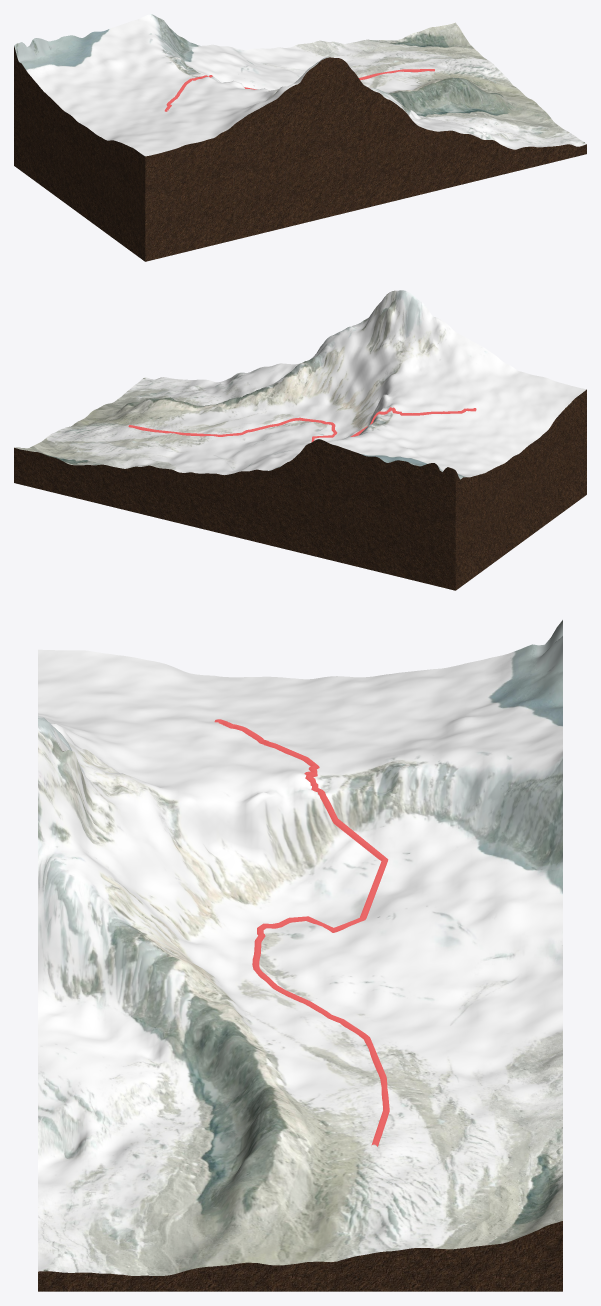
3 renders of one model, top to bottom at view 1: azimuth 30°, elevation 25°; view 2: azimuth 150°, elevation 25°; view 3: azimuth 270°, elevation 25°, orthographic. The views are drawn at different scales.
Visible parts, largest first — view 1: mesh, sideN, sideE, defaultPath; view 2: mesh, sideS, sideE, defaultPath; view 3: mesh, sideW, defaultPath.
Boxes of the visible parts, box(x1,y1,x2,y2) form: mesh: box(14, 14, 586, 156); sideN: box(145, 57, 586, 261); sideE: box(14, 46, 145, 261); defaultPath: box(164, 69, 434, 111); mesh: box(15, 290, 586, 479); sideS: box(14, 439, 455, 590); sideE: box(455, 389, 586, 590); defaultPath: box(128, 407, 476, 441); mesh: box(38, 620, 562, 1275); sideW: box(38, 1221, 562, 1291); defaultPath: box(214, 719, 389, 1146).
Bounding box in the file's own units: 30 × 10.36 × 15.44.
Materials: 4 (2 with a texture image).
